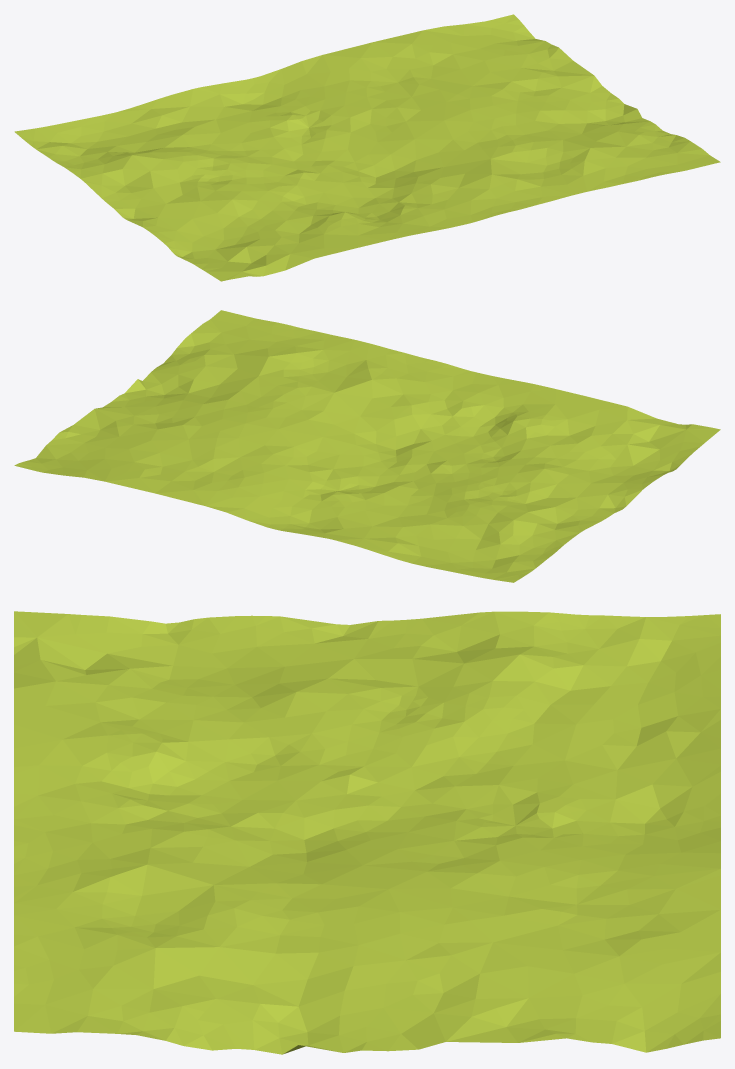
Rendered from landscape_002.glb.
The picture shows the model from 3 angles, top to bottom: view 1: azimuth 30°, elevation 25°; view 2: azimuth 150°, elevation 25°; view 3: azimuth 270°, elevation 25°; orthographic projection. The views are drawn at different scales.
Visible parts, largest first — view 1: landscape_002; view 2: landscape_002; view 3: landscape_002.
Boxes of the visible parts, bbox=[...] form: landscape_002: bbox=[14, 14, 720, 281]; landscape_002: bbox=[14, 310, 720, 582]; landscape_002: bbox=[14, 611, 720, 1054].
Size of the model in its own units: 44.19 by 1.75 by 31.73.
Materials: 1 (1 with a texture image).
